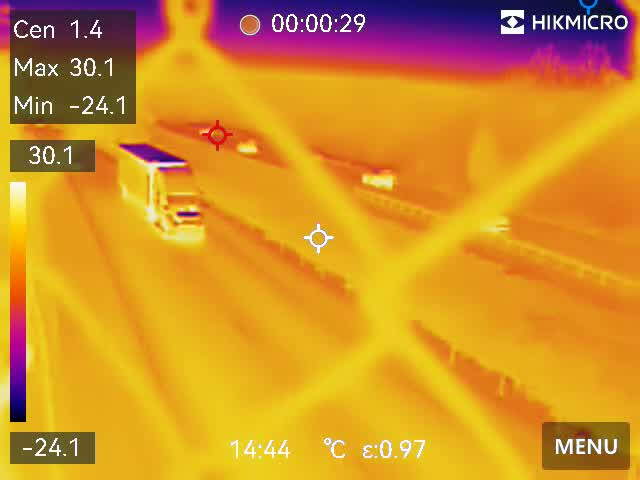heavyTruck: (113, 137, 206, 246)
vehicle: (358, 166, 396, 191), (233, 138, 259, 158)
